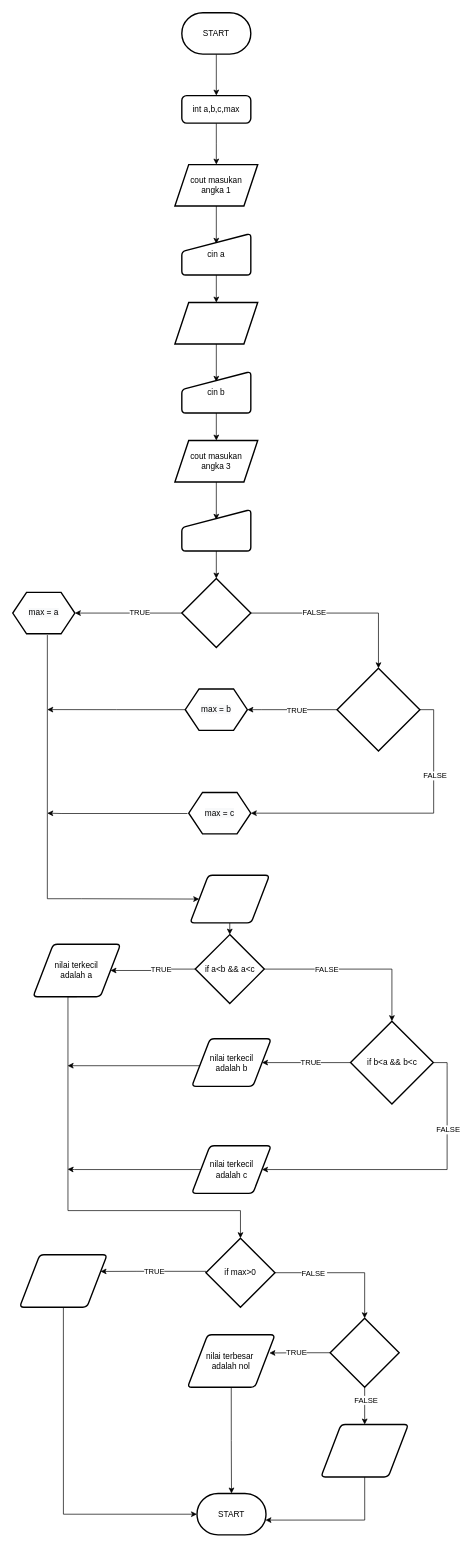
Image size: 471x1547. Some labels were removed from this diagram. Here are the shapes that lost their labels. From the top down, the centre of each, then its label:
At point 216,323: "cout masukan angka 2".
At point 216,530: "cin c".
At point 216,613: "if a>b && a>c".
At point 378,709: "if b>a && b>c".
At point 229,898: "cout nilai terbesar adalah = max".
At point 63,1281: "nilai terbesar adalah positif".
At point 364,1352: "if max == 0".
At point 364,1450: "nilai terbesar adalah negatif".
